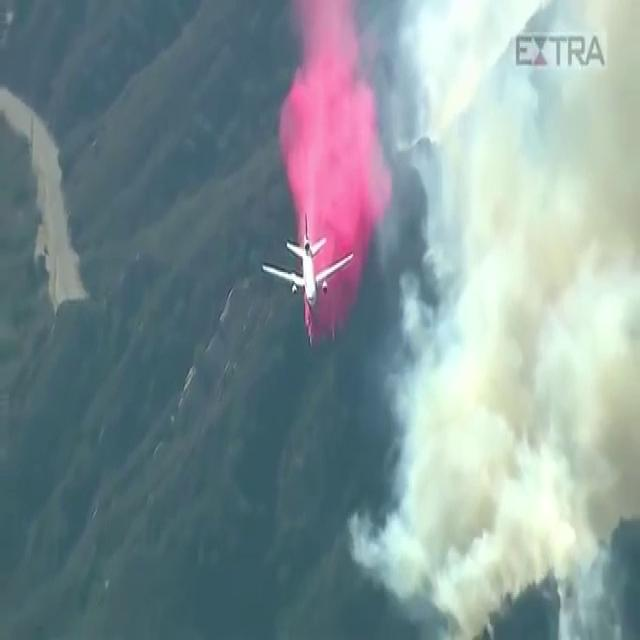Smoke: (388, 7, 630, 630)
